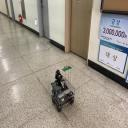cart: (50, 78, 76, 112)
